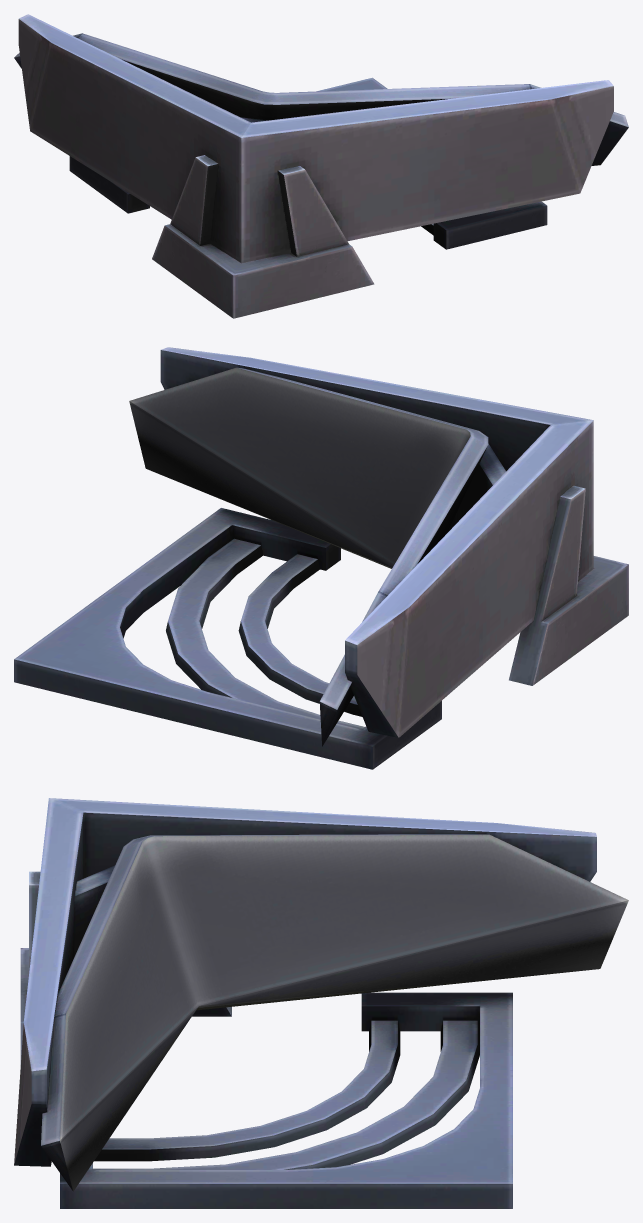
File: S_Music_turn.fbx
3 views of the same model, one above another, from view 1: azimuth 30°, elevation 25°; view 2: azimuth 150°, elevation 25°; view 3: azimuth 270°, elevation 25° (orthographic). The views are drawn at different scales.
Parts seen in each view (by area): view 1: S_Music_turn; view 2: S_Music_turn; view 3: S_Music_turn.
Part boxes in pixels (x1,y1,x2,y2): S_Music_turn: (14, 14, 628, 318); S_Music_turn: (14, 347, 628, 769); S_Music_turn: (14, 798, 628, 1208).
Size of the model in its own units: 0.8494 by 0.3347 by 0.8494.
1 material, 1 textured.
